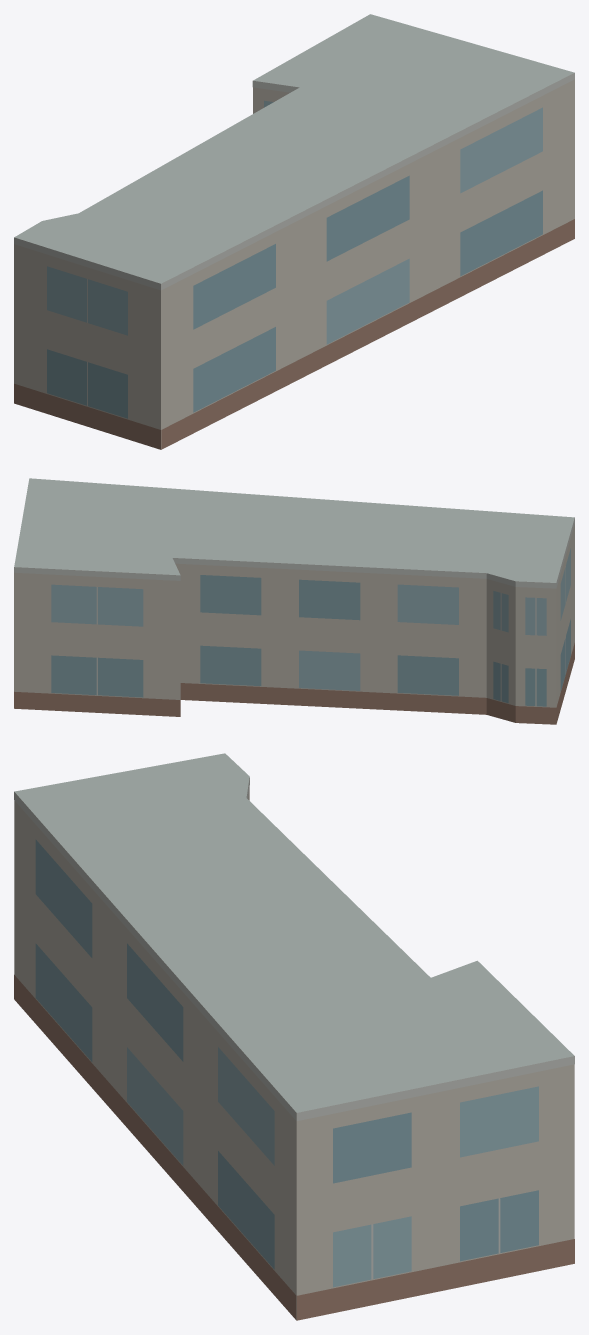
File: survey-upis-32691702.glb
3 renders of one model, top to bottom at view 1: azimuth 30°, elevation 25°; view 2: azimuth 150°, elevation 25°; view 3: azimuth 270°, elevation 25°, orthographic. The views are drawn at different scales.
Visible parts, largest first — view 1: survey-upis-32691702.tmp; view 2: survey-upis-32691702.tmp; view 3: survey-upis-32691702.tmp.
Part boxes in pixels (bbox=[...]): survey-upis-32691702.tmp: bbox=[14, 14, 574, 449]; survey-upis-32691702.tmp: bbox=[14, 478, 574, 724]; survey-upis-32691702.tmp: bbox=[14, 753, 574, 1320].
Size of the model in its own units: 22.67 by 6.1 by 14.93.
